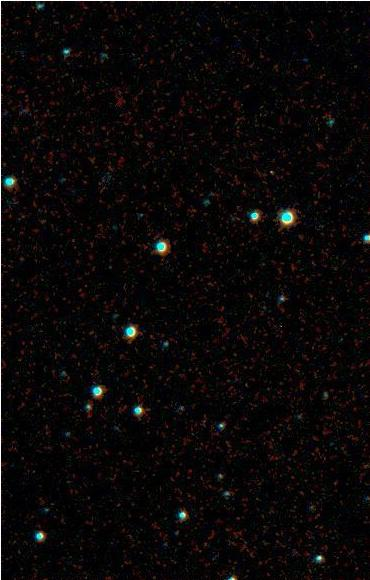star: (253, 158, 283, 188)
